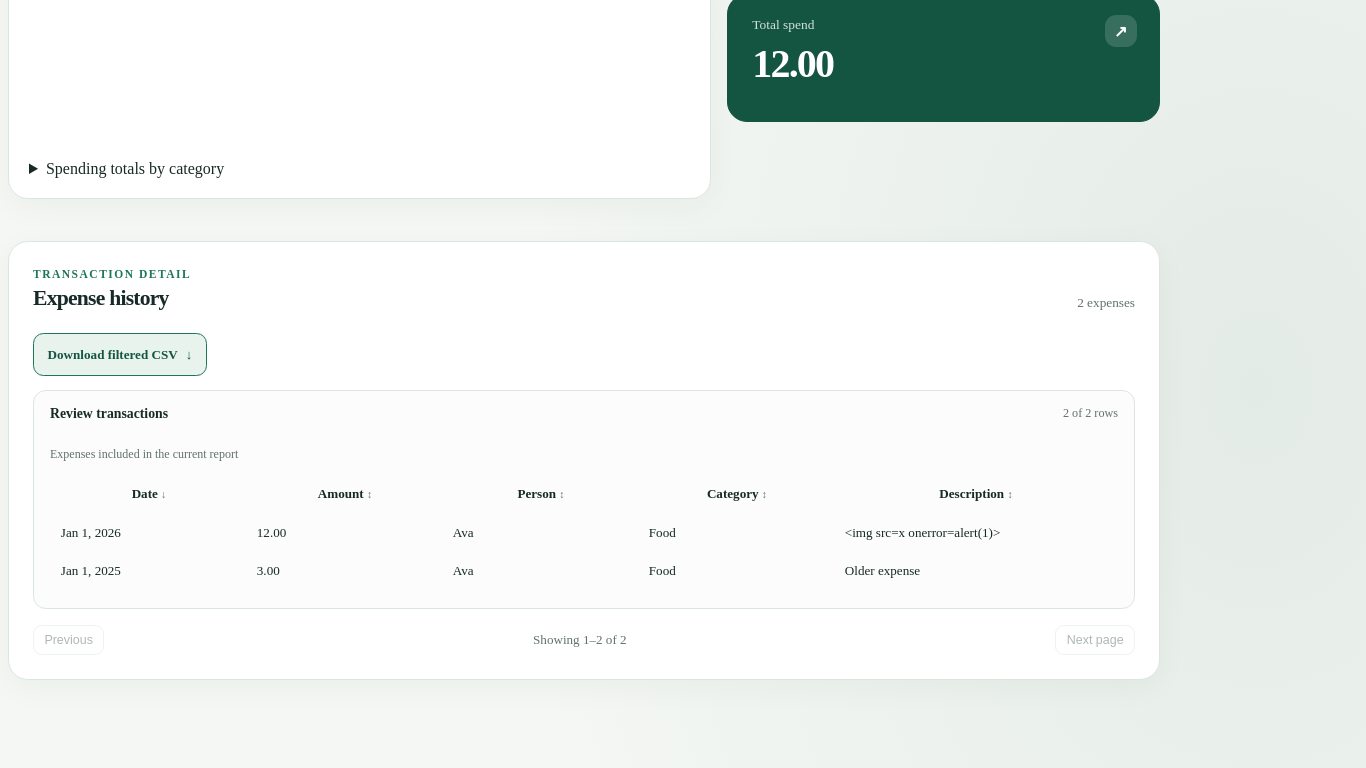
historical expense dashboard › keeps transaction sorting available
(page scrolled)
Expected: the text "<img src=x onerror=alert(1)>" is shown, [836,514,1116,551]
Click the button with aria-label "Sort by Amount" at [345, 494], box [318,486,372,502]
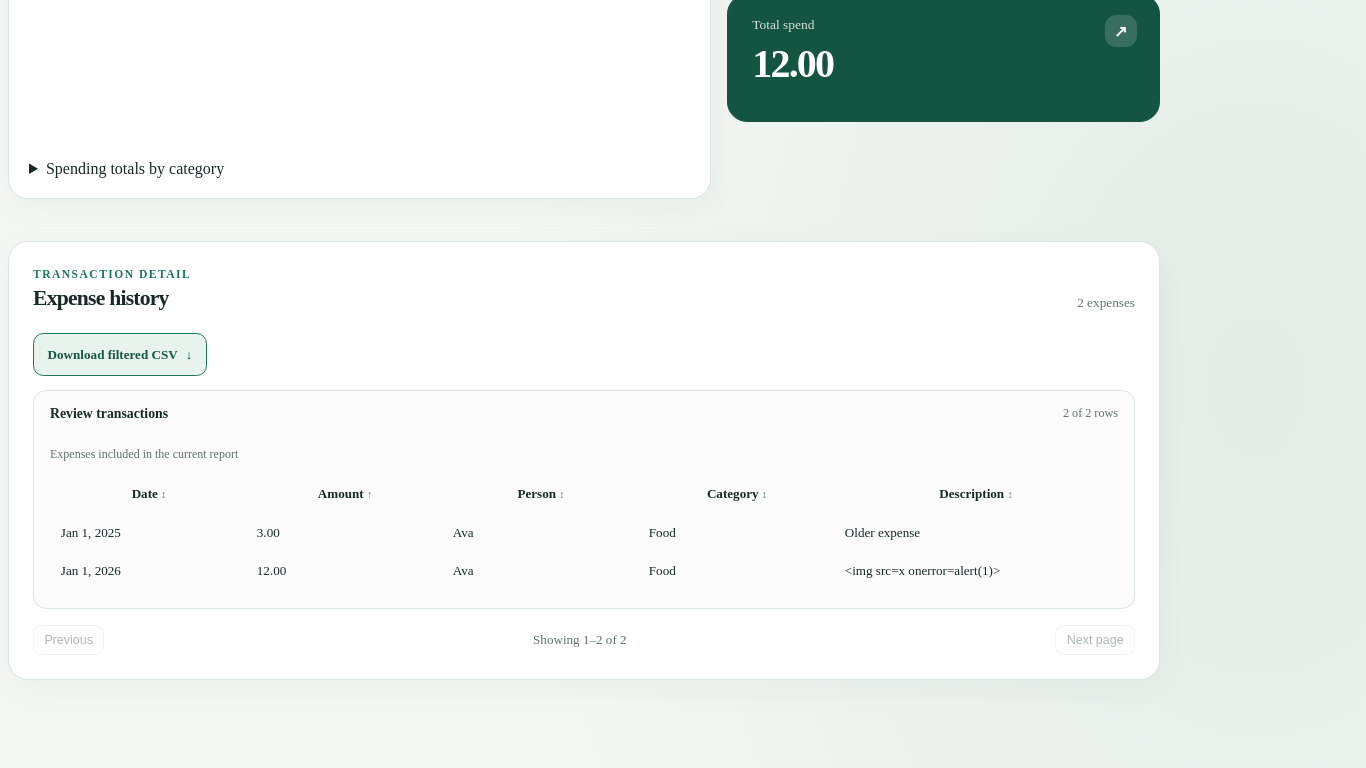
Result: the row "Jan 1, 2025 3.00 Ava Food Older expense" is shown at [52,514,1116,551]
